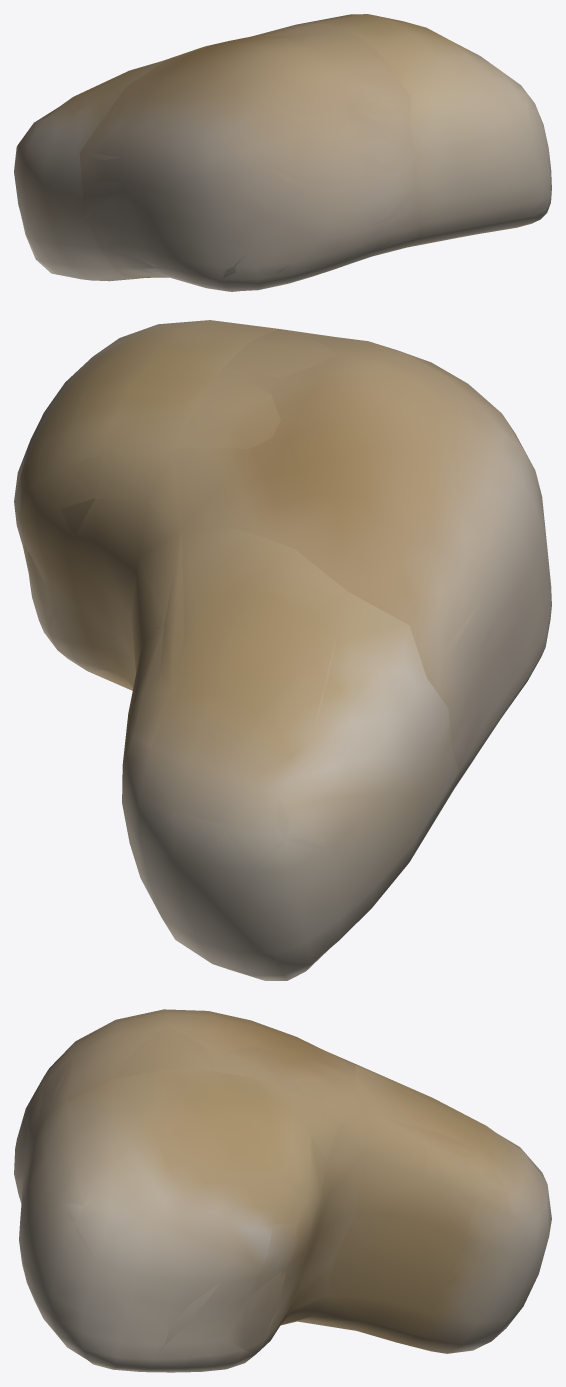
The model's file is L talus.fbx.
3 views of the same model, one above another, from view 1: azimuth 30°, elevation 25°; view 2: azimuth 150°, elevation 25°; view 3: azimuth 270°, elevation 25° (orthographic). The views are drawn at different scales.
Parts seen in each view (by area): view 1: L talus, L talus low; view 2: L talus, L talus low; view 3: L talus, L talus low.
Part boxes in pixels (left/top/right/bottom): L talus: left=14, top=14, right=551, bottom=291; L talus low: left=14, top=23, right=547, bottom=283; L talus: left=14, top=320, right=551, bottom=980; L talus low: left=15, top=326, right=535, bottom=976; L talus: left=14, top=1009, right=551, bottom=1372; L talus low: left=14, top=1026, right=548, bottom=1367.
Bounding box in the file's own units: 2.62 × 2.07 × 2.9.
